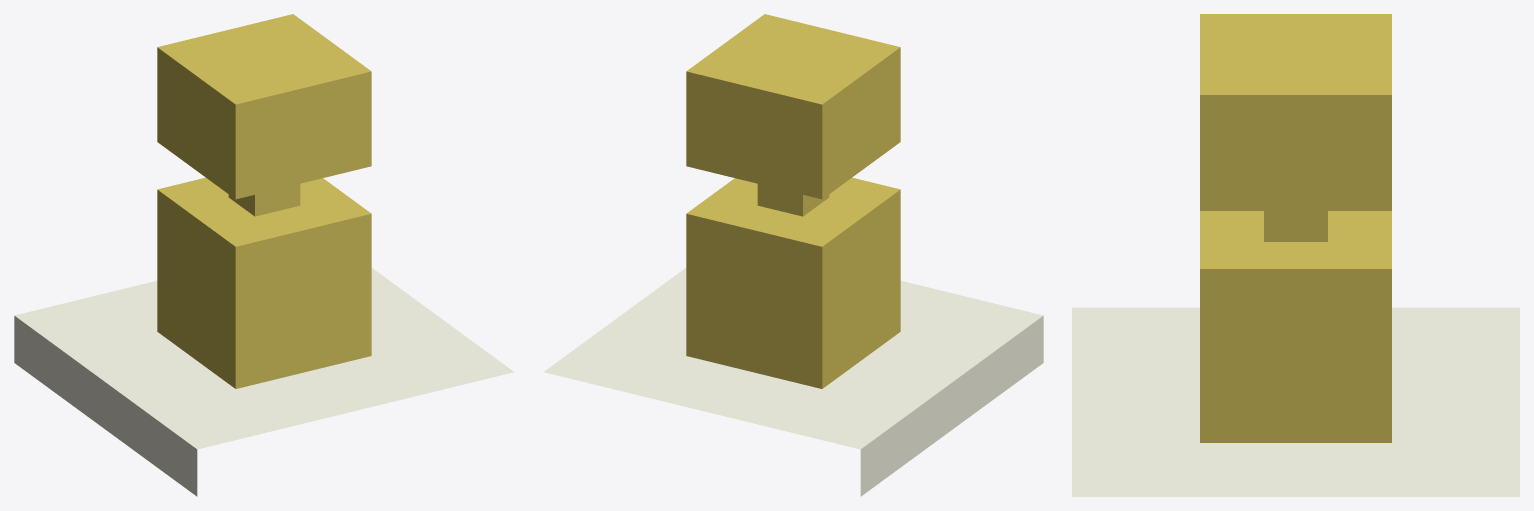
File: pawn-b.glb
3 views of the same model, side by side, from view 1: azimuth 30°, elevation 25°; view 2: azimuth 150°, elevation 25°; view 3: azimuth 270°, elevation 25° (orthographic). The views are drawn at different scales.
Parts seen in each view (by area): view 1: root; view 2: root; view 3: root.
Part boxes in pixels (x1=…): root: x1=14, y1=14, x2=514, y2=496; root: x1=543, y1=14, x2=1043, y2=496; root: x1=1072, y1=14, x2=1519, y2=496.
Bounding box in the file's own units: 1 × 1 × 1.
1 material, 1 textured.
